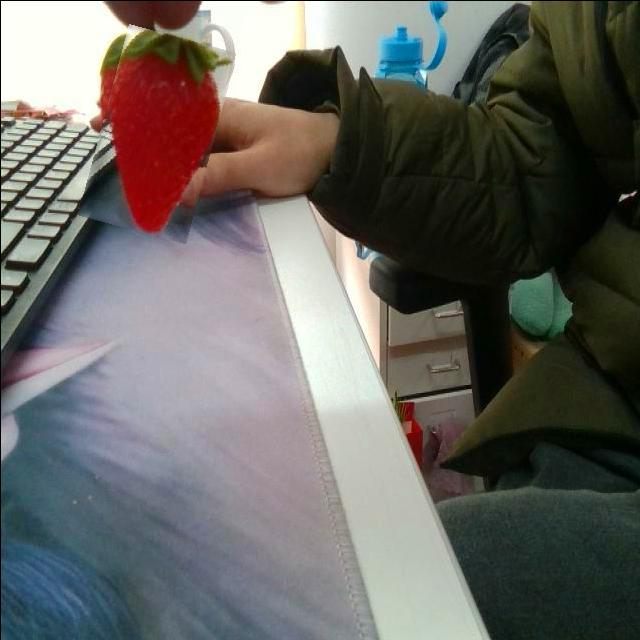strawberry: (88, 28, 224, 238)
